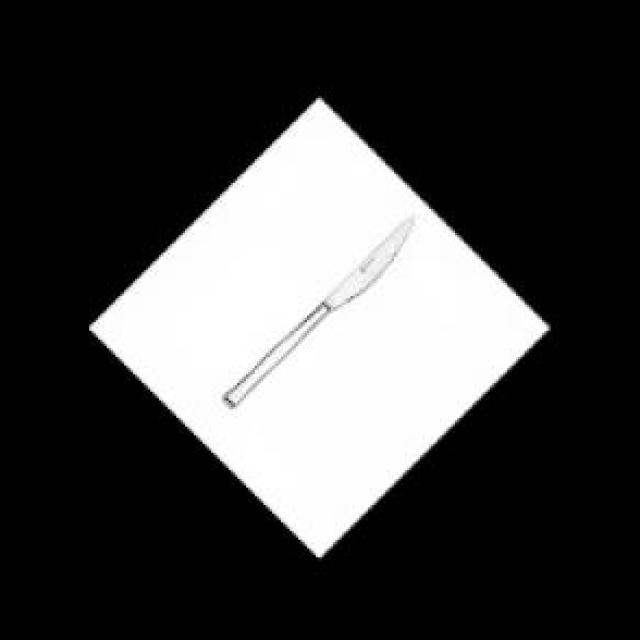knife: (217, 211, 422, 415)
